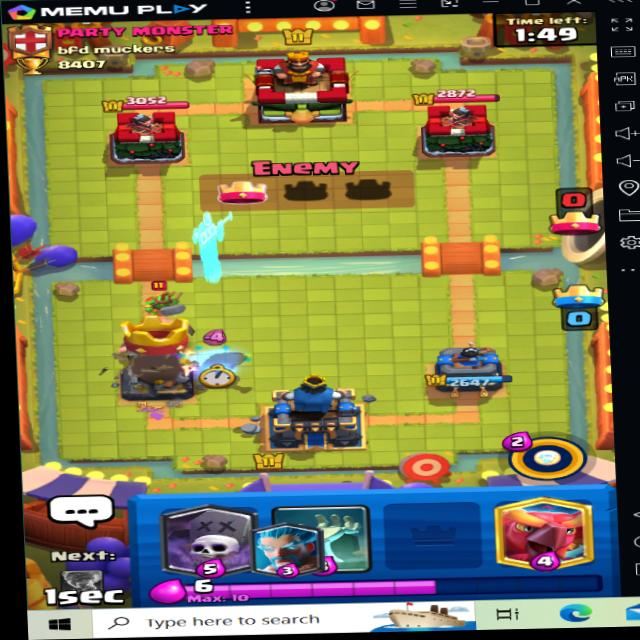spear-goblin: (135, 284, 187, 313)
